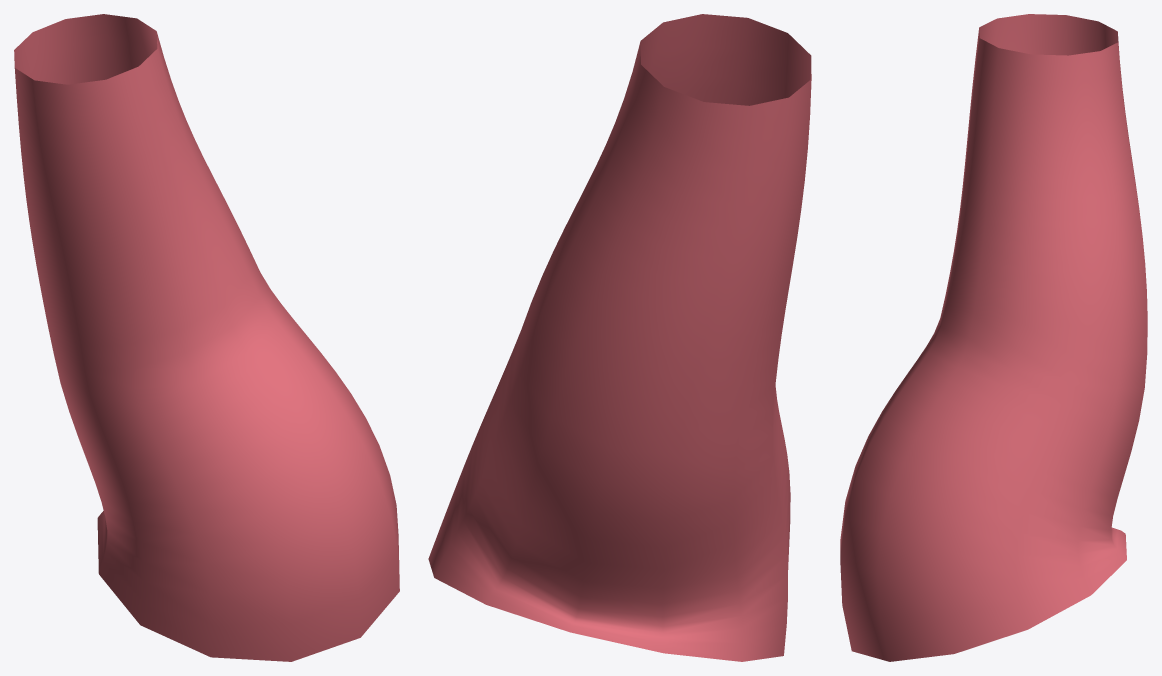
The picture shows the model from 3 angles, left to right: view 1: azimuth 30°, elevation 25°; view 2: azimuth 150°, elevation 25°; view 3: azimuth 270°, elevation 25°; orthographic projection. The views are drawn at different scales.
Visible parts, largest first — view 1: ZA_b467966e298ccb1d; view 2: ZA_b467966e298ccb1d; view 3: ZA_b467966e298ccb1d.
Part boxes in pixels (<box>): ZA_b467966e298ccb1d: <box>14,14,399,661</box>; ZA_b467966e298ccb1d: <box>428,14,811,661</box>; ZA_b467966e298ccb1d: <box>840,14,1147,661</box>.
Size of the model in its own units: 0.0252 by 0.0423 by 0.0214.
